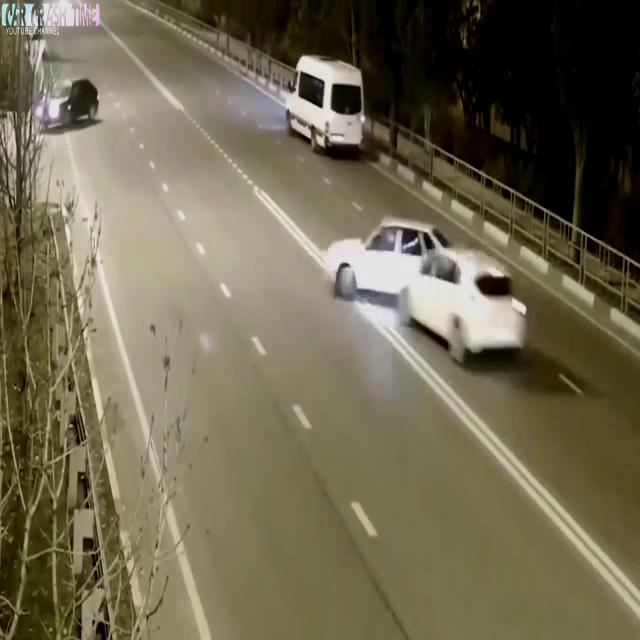accident: (321, 214, 529, 370)
